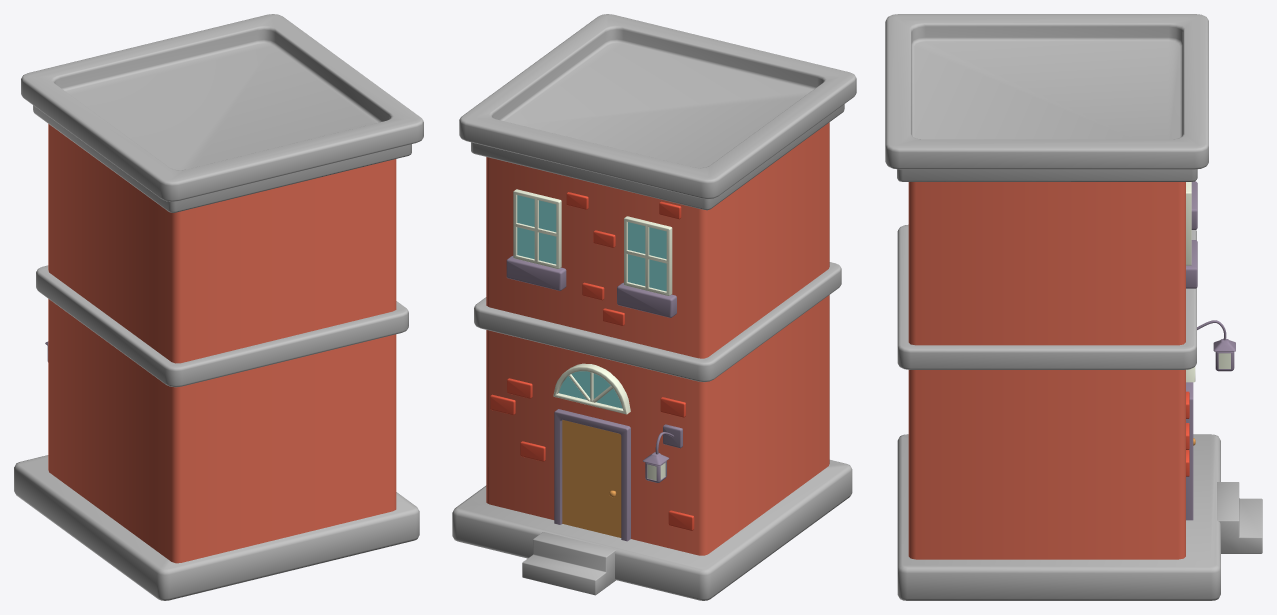
Rendered from red_build.fbx.
3 renders of one model, left to right at view 1: azimuth 30°, elevation 25°; view 2: azimuth 150°, elevation 25°; view 3: azimuth 270°, elevation 25°, orthographic. The views are drawn at different scales.
Parts seen in each view (by area): view 1: building_red_ust, building_red_alt; view 2: building_red_ust, building_red_alt; view 3: building_red_ust, building_red_alt.
Part boxes in pixels (x1,y1,x2,y2): building_red_ust: (21,14,423,363); building_red_alt: (14,265,419,600); building_red_ust: (459,14,856,358); building_red_alt: (452,262,852,600); building_red_ust: (885,14,1208,345); building_red_alt: (897,224,1262,600).
Size of the model in its own units: 350 by 541 by 408.
Materials: 2 (2 with a texture image).
